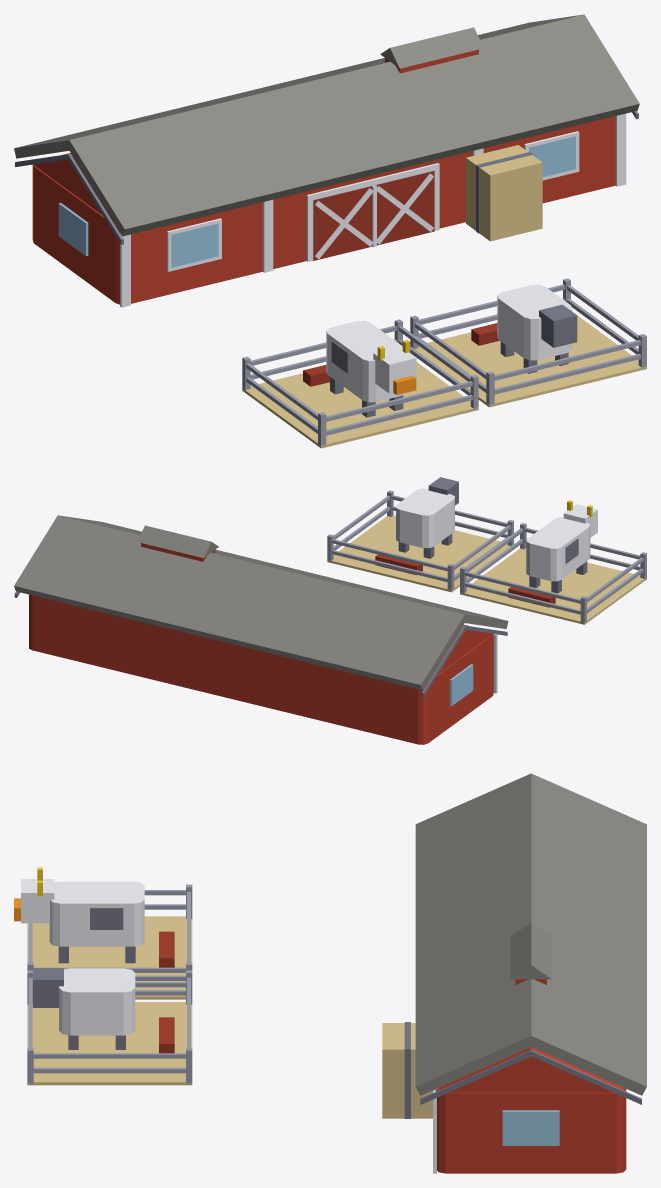
The model's file is livestock-farm-2x2-t2-tone-a.glb.
3 views of the same model, one above another, from view 1: azimuth 30°, elevation 25°; view 2: azimuth 150°, elevation 25°; view 3: azimuth 270°, elevation 25° (orthographic). The views are drawn at different scales.
Visible parts, largest first — view 1: livestock-farm-2x2-t2-tone-a; view 2: livestock-farm-2x2-t2-tone-a; view 3: livestock-farm-2x2-t2-tone-a.
Part boxes in pixels (x1,y1,x2,y2): livestock-farm-2x2-t2-tone-a: (14, 14, 646, 448); livestock-farm-2x2-t2-tone-a: (14, 477, 646, 744); livestock-farm-2x2-t2-tone-a: (14, 773, 646, 1173).
Size of the model in its own units: 1.97 by 0.54 by 2.
1 material, 1 textured.
